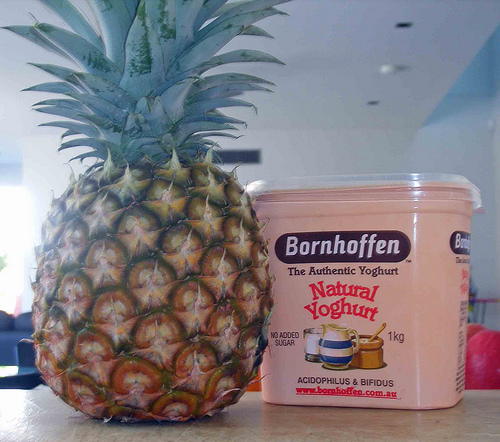pineapple: (0, 0, 289, 424)
